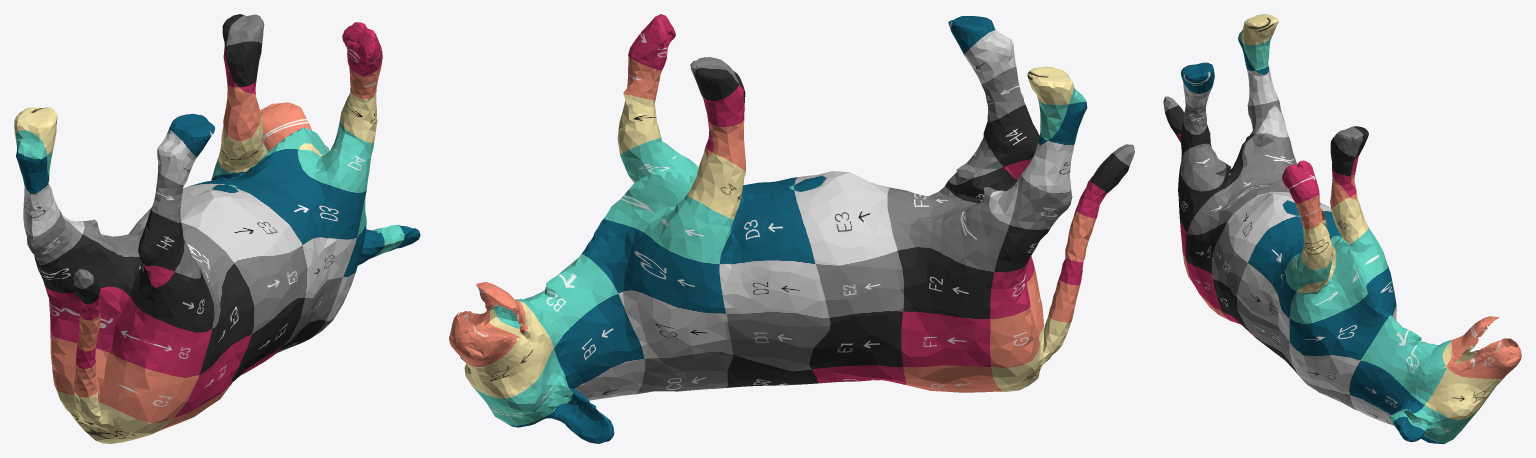
The model's file is horse_04-cow_04.obj.
3 renders of one model, left to right at view 1: azimuth 30°, elevation 25°; view 2: azimuth 150°, elevation 25°; view 3: azimuth 270°, elevation 25°, orthographic. The views are drawn at different scales.
Parts seen in each view (by area): view 1: horse_04-cow_04_export; view 2: horse_04-cow_04_export; view 3: horse_04-cow_04_export.
Part boxes in pixels (left/top/right/bottom): horse_04-cow_04_export: left=14, top=14, right=420, bottom=443; horse_04-cow_04_export: left=449, top=14, right=1134, bottom=443; horse_04-cow_04_export: left=1163, top=14, right=1521, bottom=443.
Size of the model in its own units: 0.8521 by 0.5666 by 0.6736.
